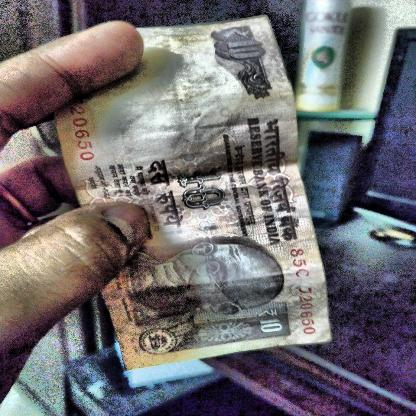Rs10: (173, 165, 233, 218), (216, 23, 272, 66), (251, 305, 290, 340)
